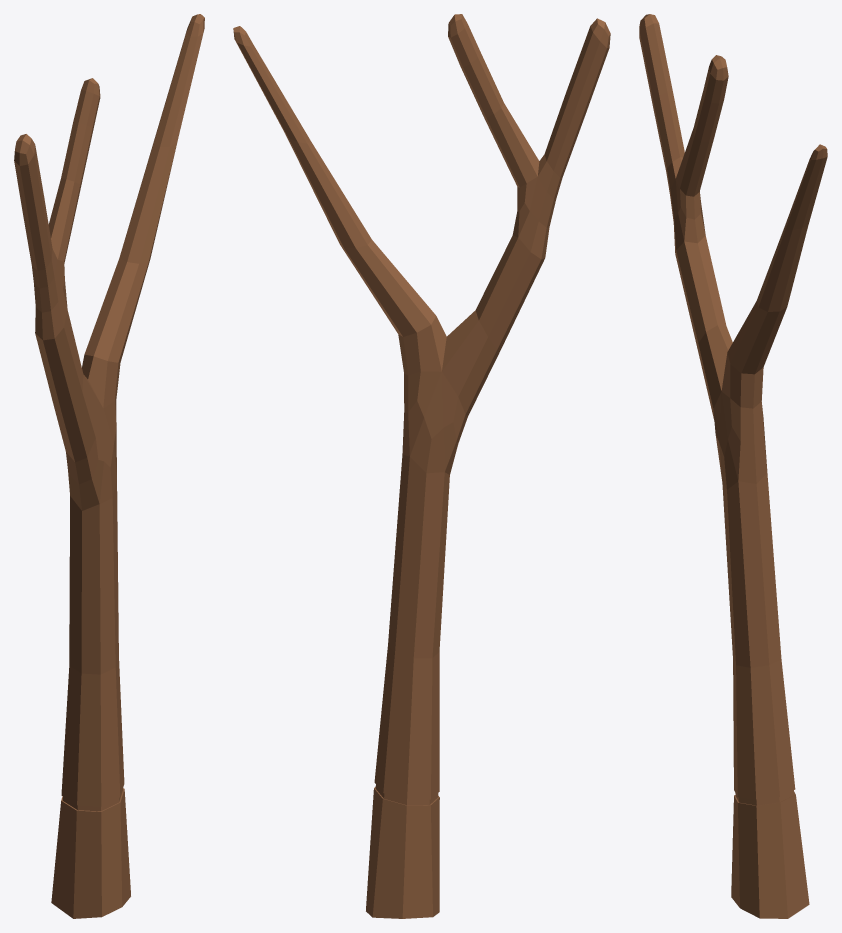
The model's file is tree-winter-trunk-6-038.glb.
3 views of the same model, side by side, from view 1: azimuth 30°, elevation 25°; view 2: azimuth 150°, elevation 25°; view 3: azimuth 270°, elevation 25° (orthographic). The views are drawn at different scales.
Visible parts, largest first — view 1: TREE 6.004_205; view 2: TREE 6.004_205; view 3: TREE 6.004_205.
Boxes of the visible parts, box(x1,y1,x2,y2) form: TREE 6.004_205: box(14, 14, 204, 918); TREE 6.004_205: box(233, 14, 610, 918); TREE 6.004_205: box(639, 14, 827, 918).
Size of the model in its own units: 0.4882 by 1.44 by 0.2943.
